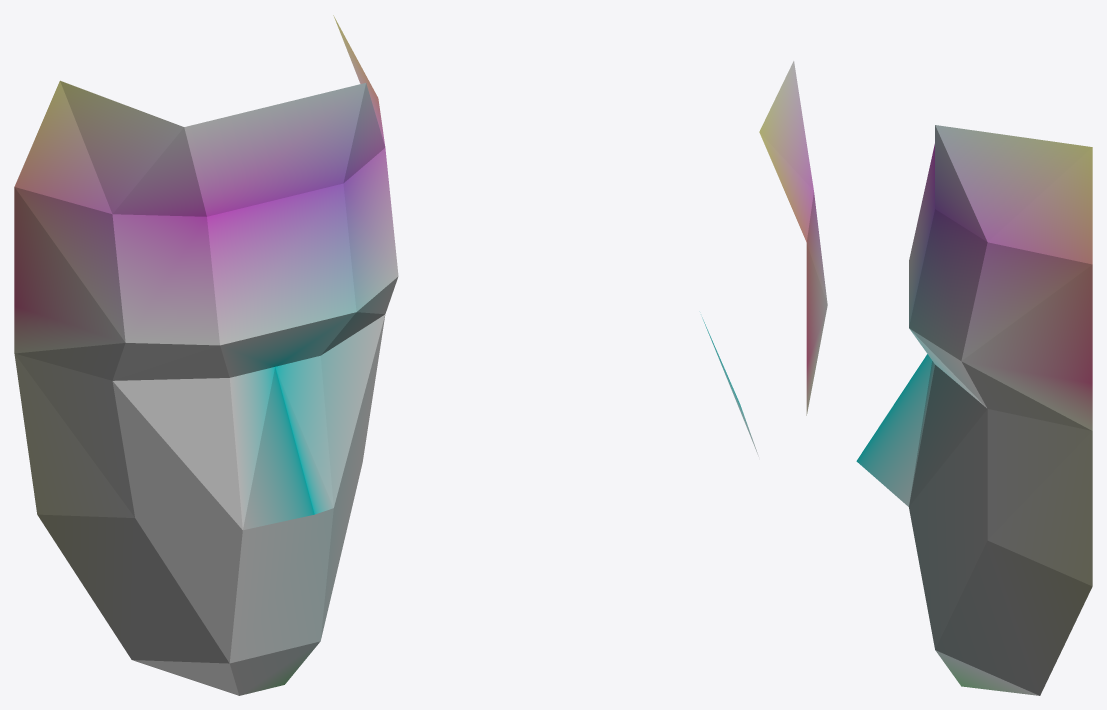
The picture shows the model from 3 angles, left to right: view 1: azimuth 30°, elevation 25°; view 2: azimuth 150°, elevation 25°; view 3: azimuth 270°, elevation 25°; orthographic projection. The views are drawn at different scales.
Visible parts, largest first — view 1: model_13E8; view 2: model_13E8; view 3: model_13E8.
Part boxes in pixels (bbox=[...]): model_13E8: bbox=[14, 15, 398, 695]; model_13E8: bbox=[702, 61, 827, 456]; model_13E8: bbox=[856, 125, 1092, 695].
Size of the model in its own units: 16 by 25 by 9.
